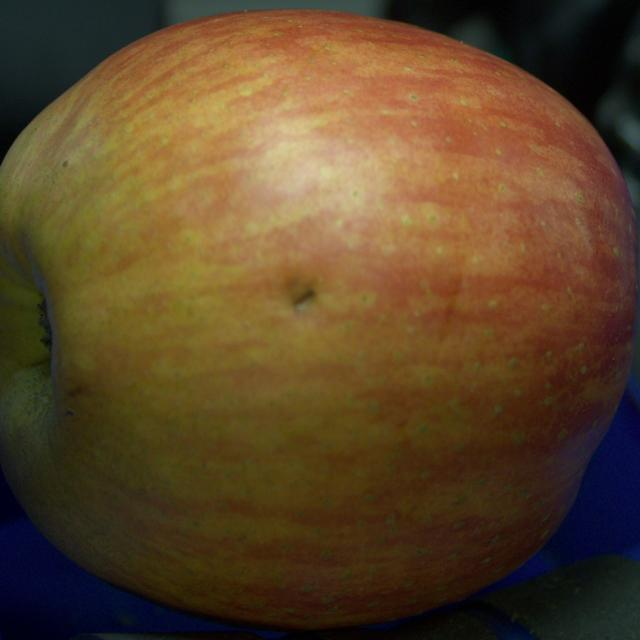apple: (0, 11, 638, 628)
scratch: (294, 288, 315, 308)
